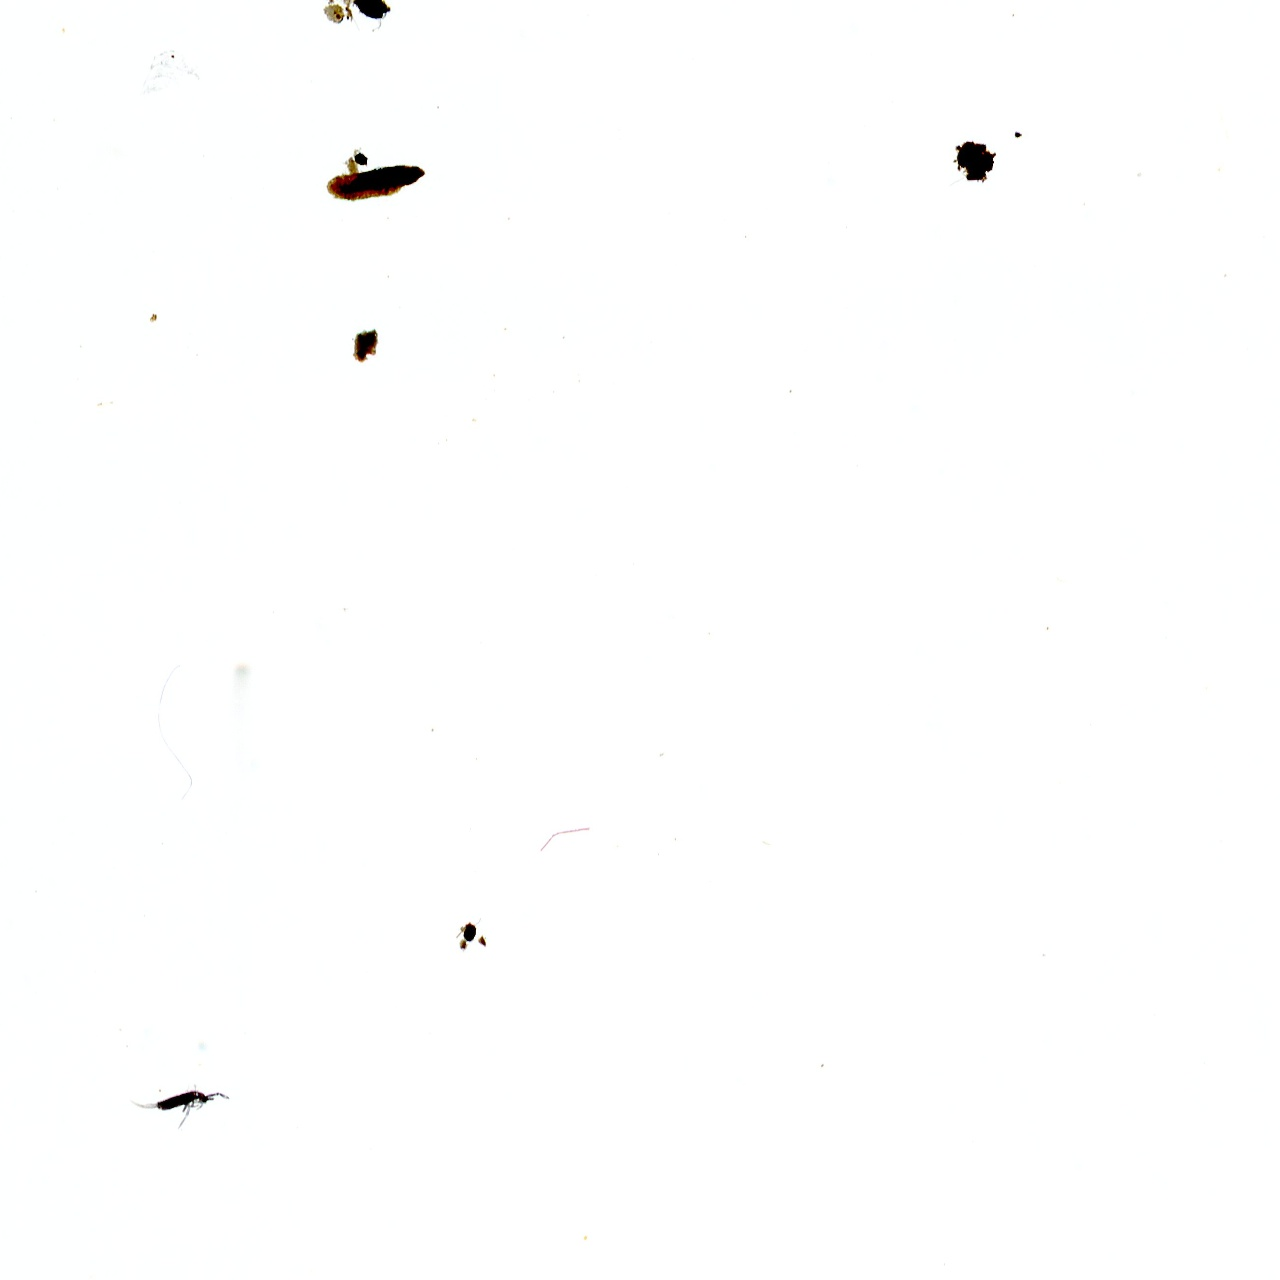arthropod: (123, 1082, 236, 1132)
